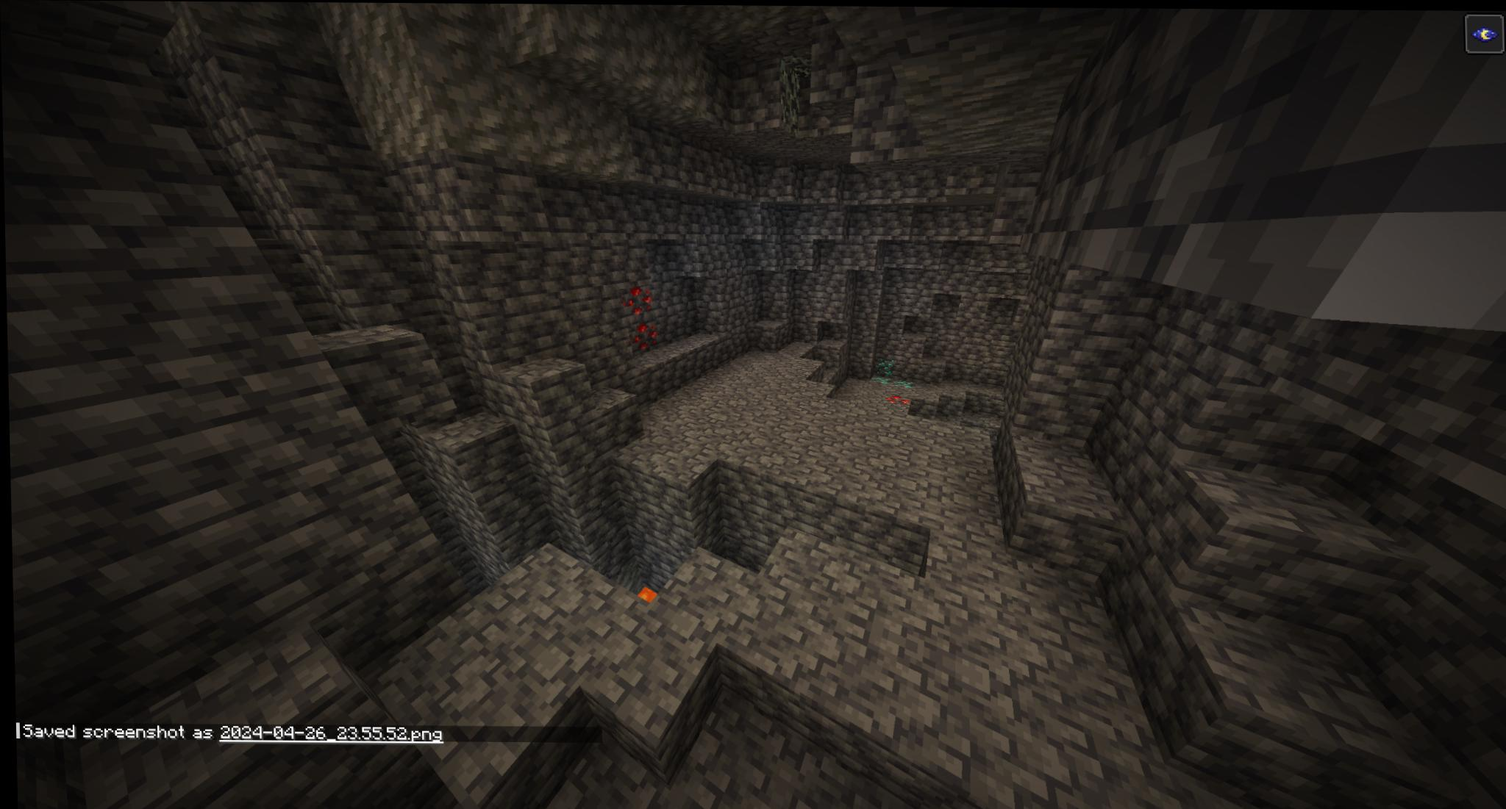diamond ore: (870, 353, 916, 387)
redstone ore: (625, 313, 659, 350), (620, 285, 656, 319)
